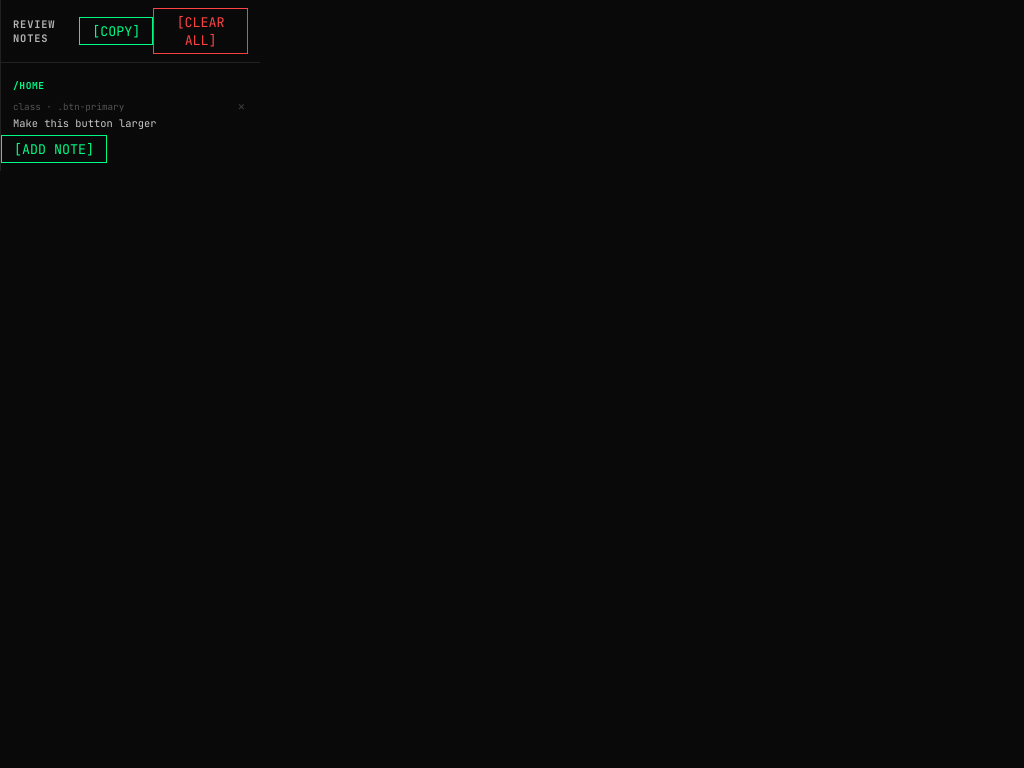
Test case: ReviewNotesPanel › "Clear all" button › opens a confirmation modal when clicked
Click the button with aria-label "clear all review notes" at (201, 31), box [153,8,248,54]
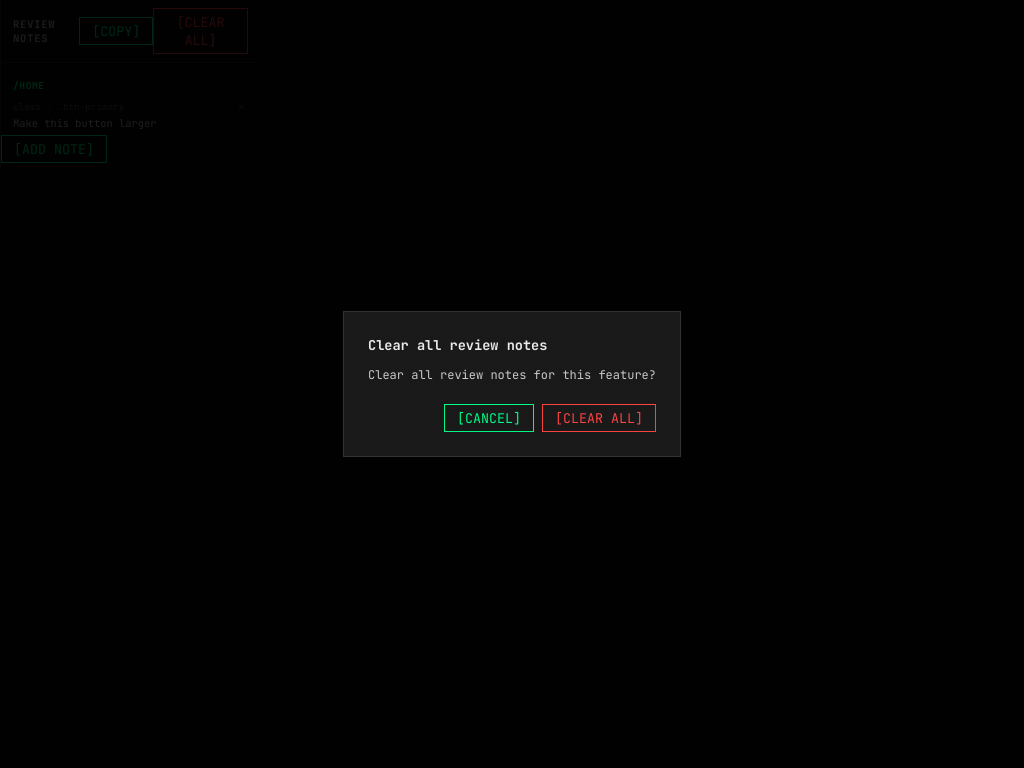
Check: the dialog is shown, box [343,311,681,457]
Check: the text "Clear all review notes for this feature?" is shown, box [368,366,656,384]
